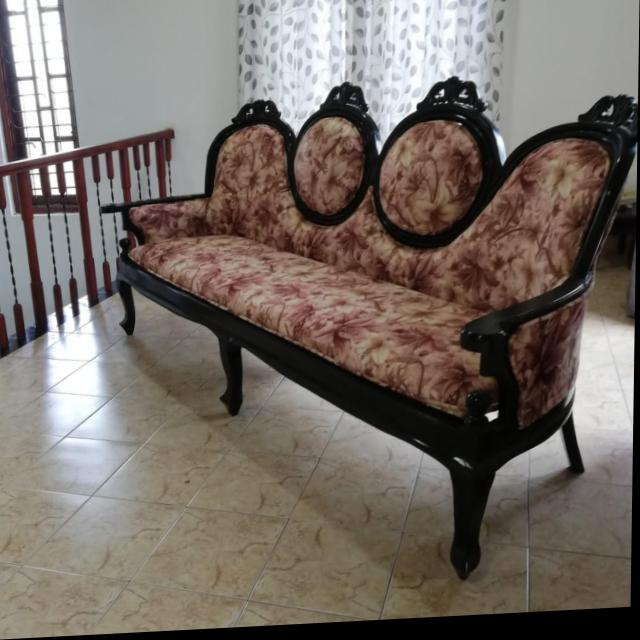Sofa: (116, 76, 639, 599)
